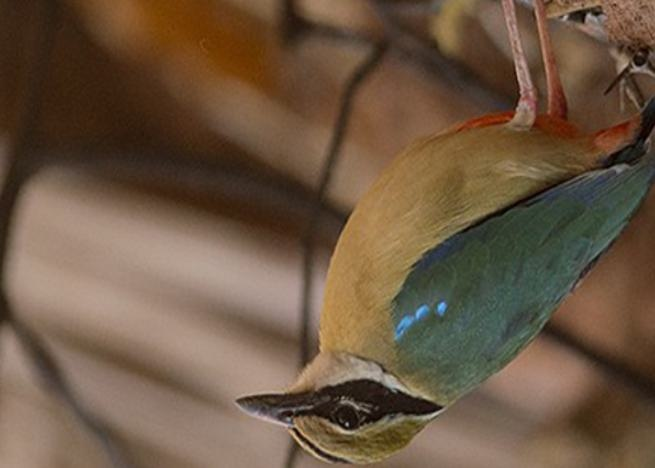pitta: (233, 18, 655, 453)
